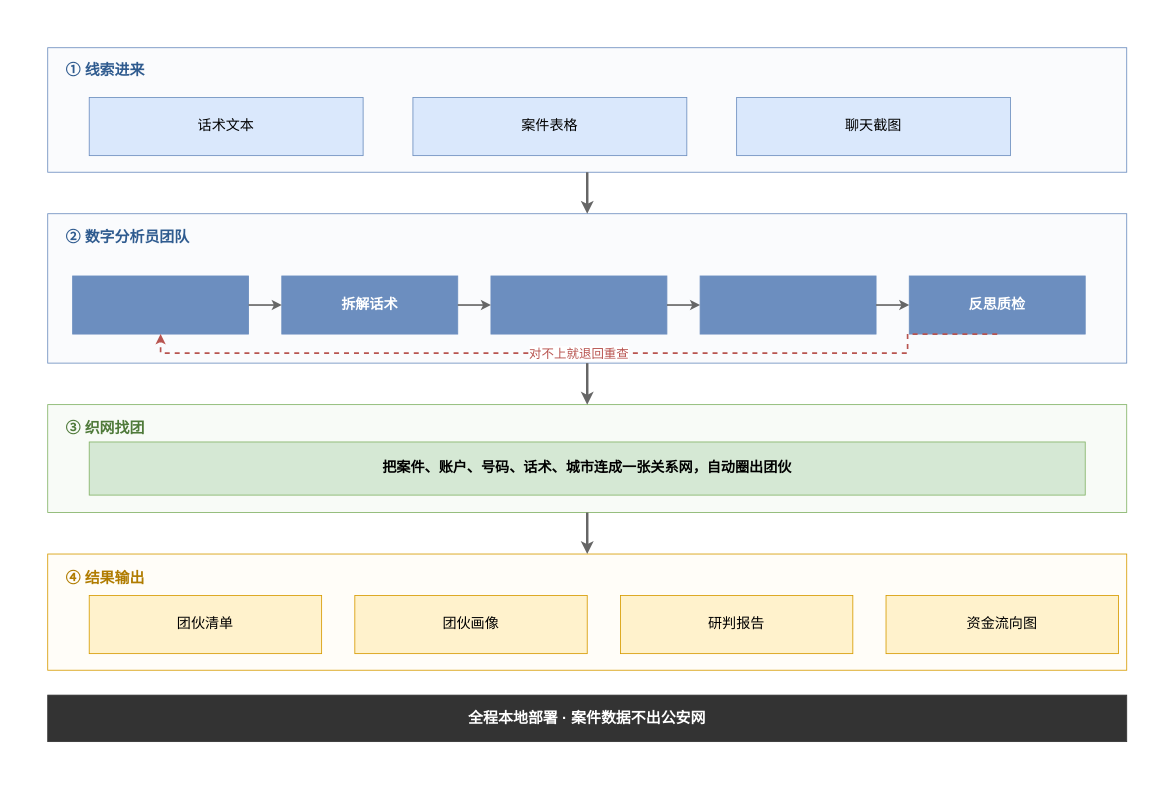
The diagram is 1174 pixels wide and 789 high, and some of its shapes have lost their labels. Here are the shapes that lost their labels. From the top down, the box of each, then its label:
(72, 275, 249, 334): 整理线索
(490, 275, 667, 334): 追踪资金
(699, 275, 876, 334): 提出串并
